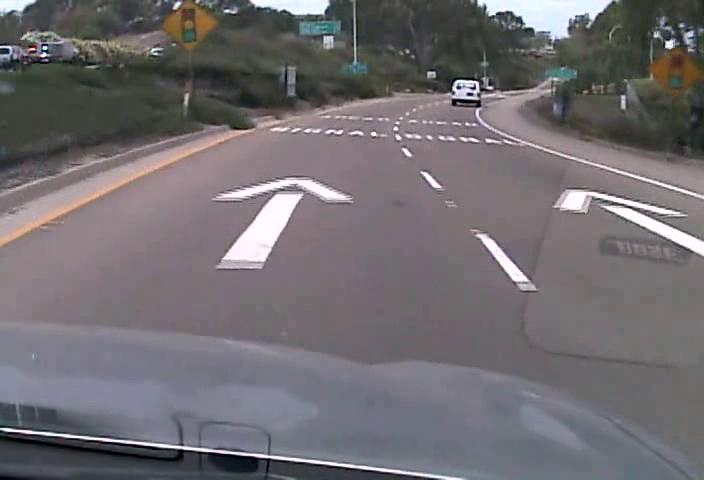signalAhead: (160, 0, 219, 50)
